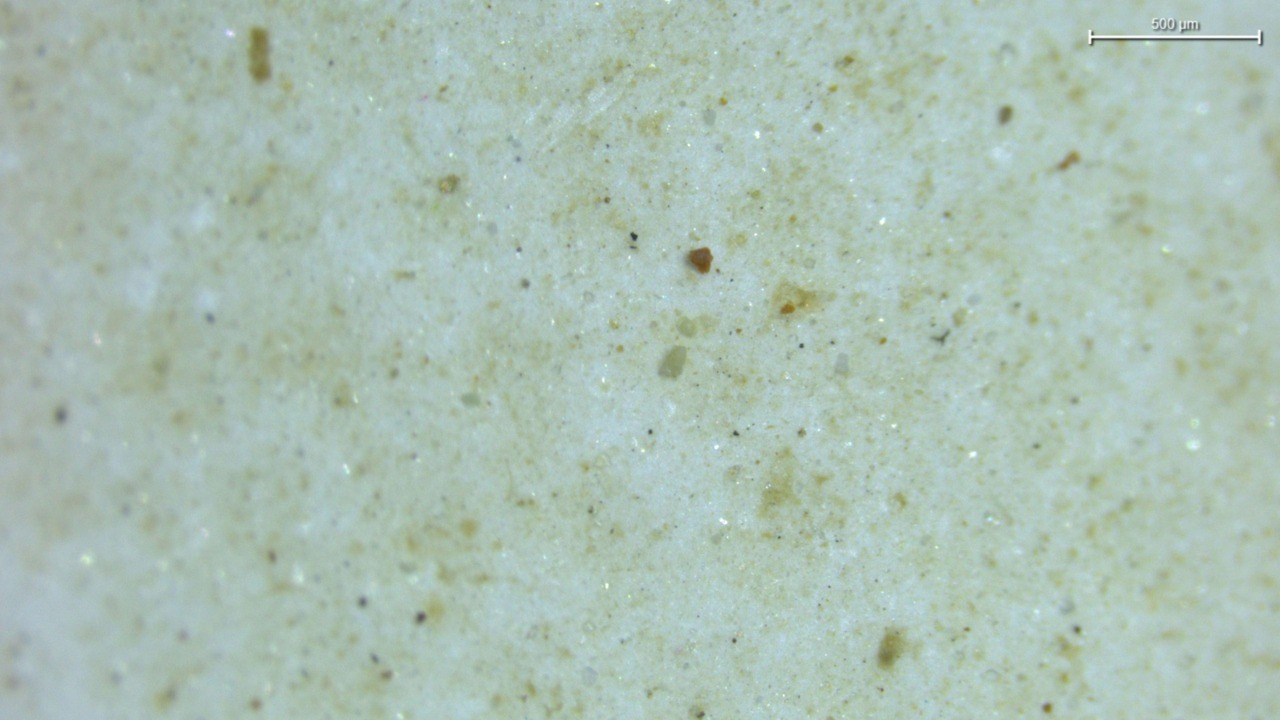microplastic_fragment: (658, 346, 687, 378)
